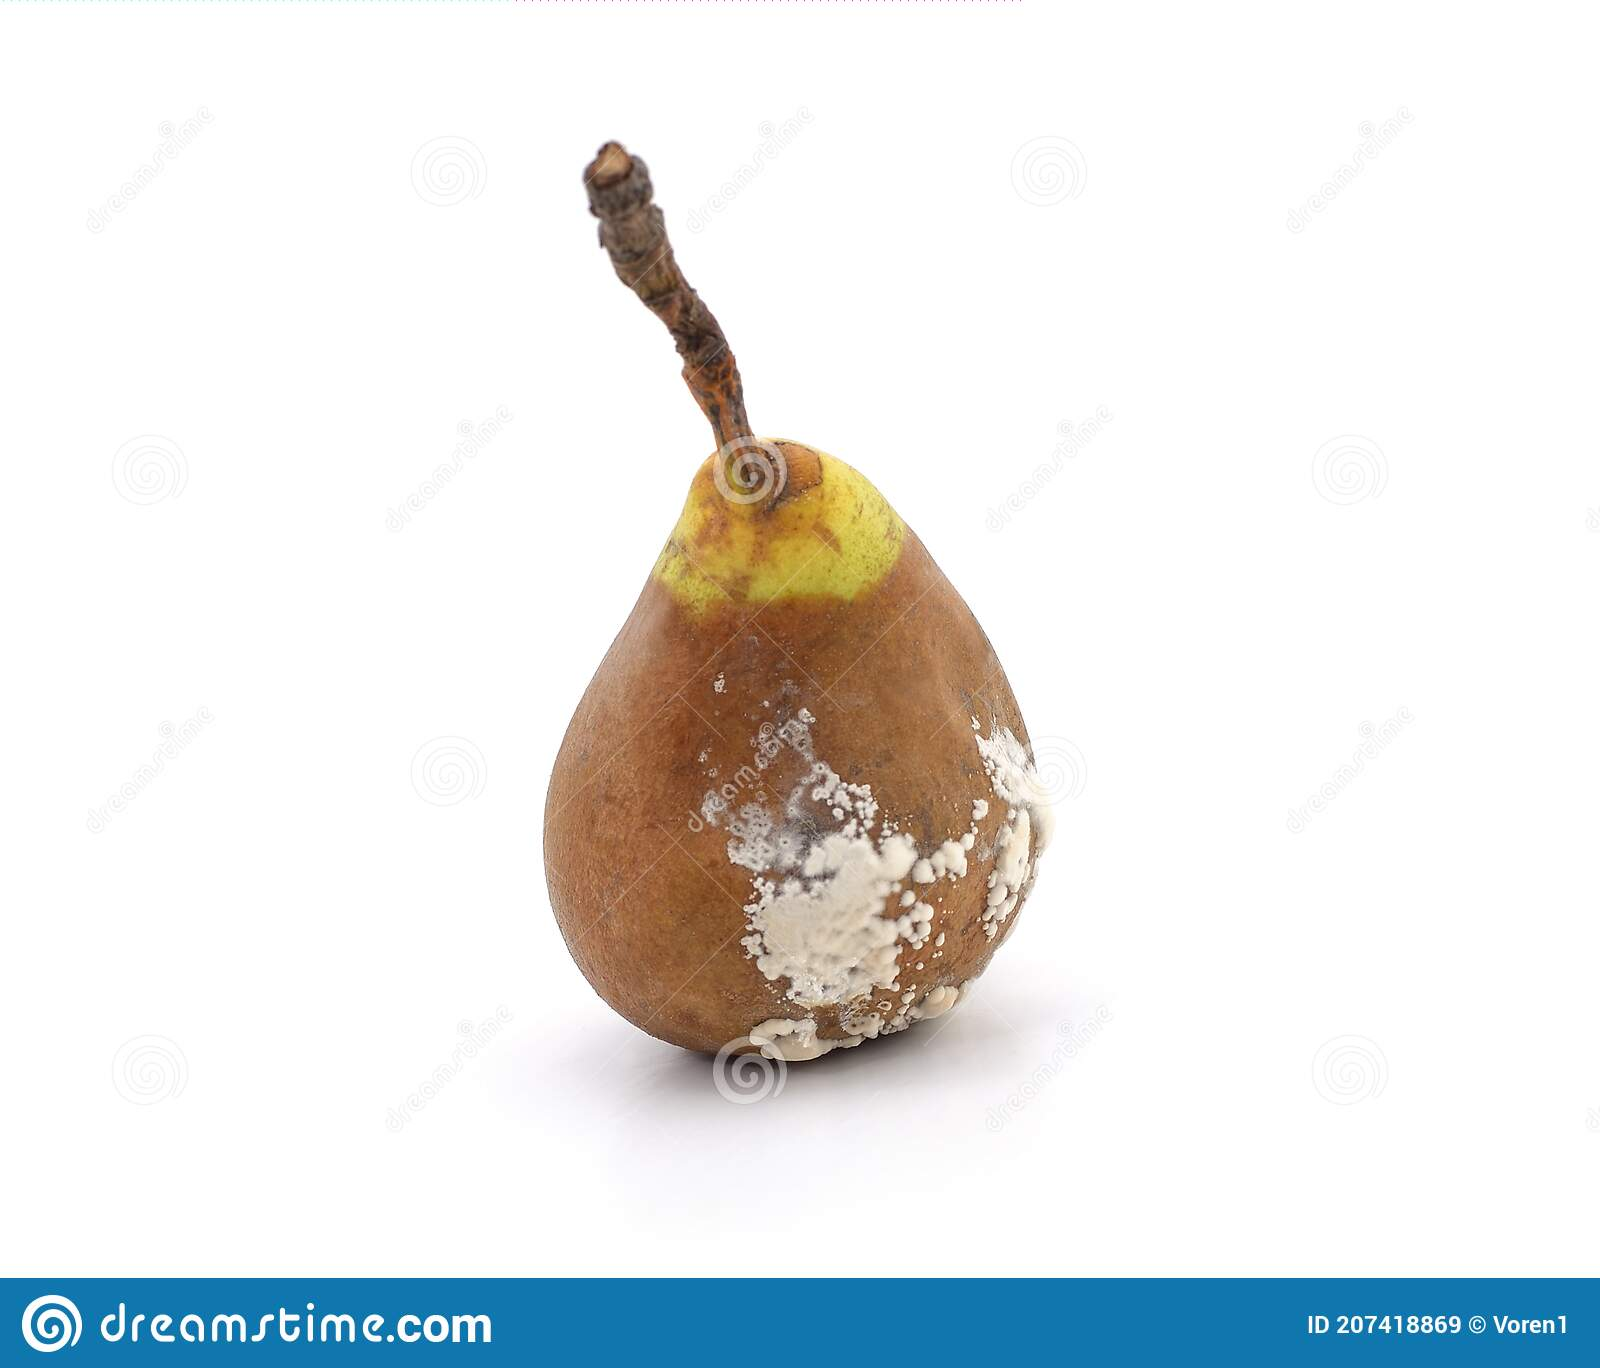pear: (535, 442, 1048, 1069)
rotten: (698, 674, 1050, 1060)
